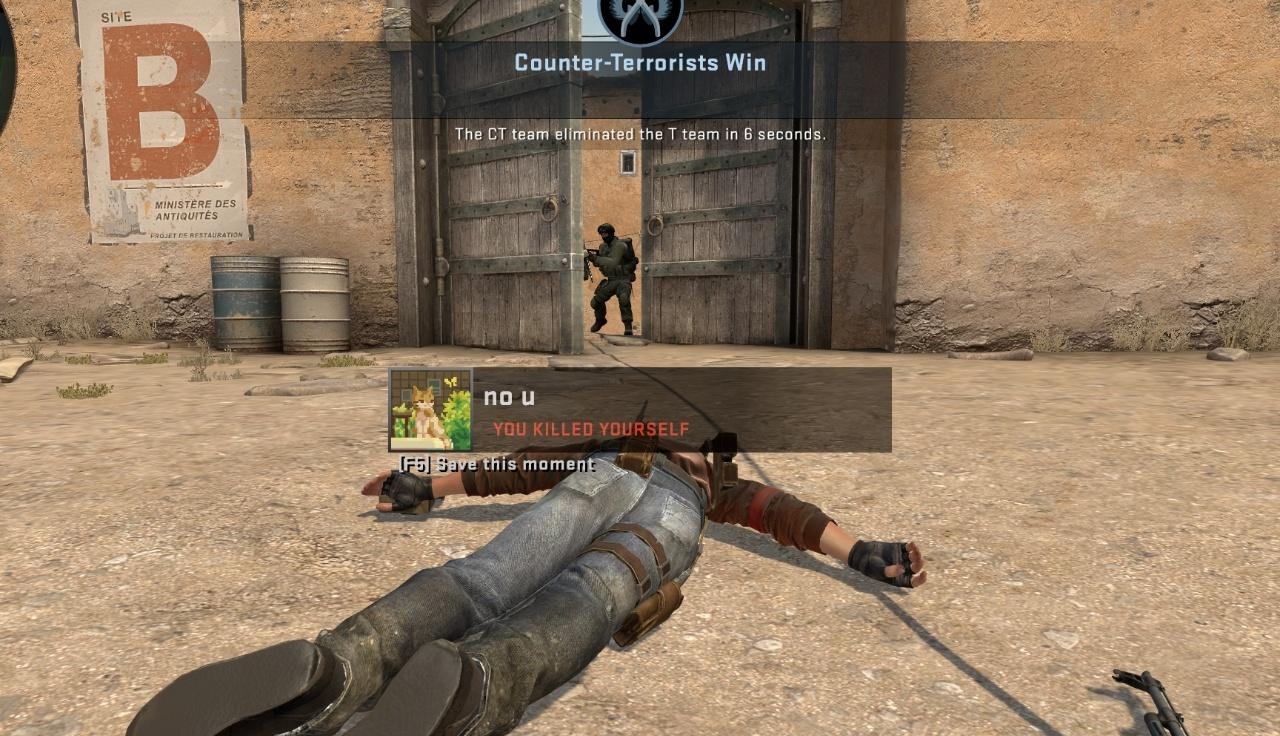ct: (591, 222, 635, 335)
cthead: (598, 224, 614, 243)
